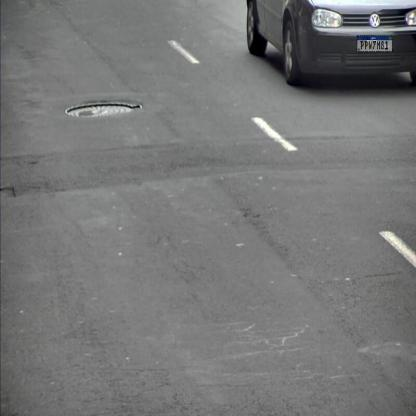PlacaM: (356, 35, 392, 52)
